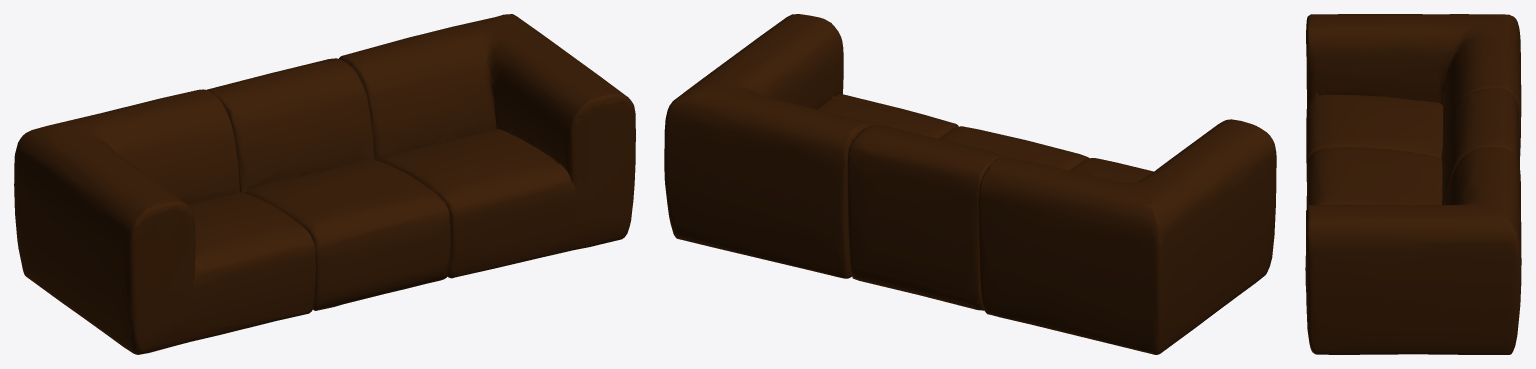
The model's file is stockholm-2025-3-seat-sofa-alhamn-dark-brown.glb.
The picture shows the model from 3 angles, left to right: view 1: azimuth 30°, elevation 25°; view 2: azimuth 150°, elevation 25°; view 3: azimuth 270°, elevation 25°; orthographic projection. The views are drawn at different scales.
Visible parts, largest first — view 1: 39574295_3_seat_sofa:3, 39574295_3_seat_sofa:2; view 2: 39574295_3_seat_sofa:3, 39574295_3_seat_sofa:2; view 3: 39574295_3_seat_sofa:3, 39574295_3_seat_sofa:2.
Part boxes in pixels (x1,y1,x2,y2): 39574295_3_seat_sofa:3: (14,14,635,354); 39574295_3_seat_sofa:2: (207,58,450,310); 39574295_3_seat_sofa:3: (664,14,1276,354); 39574295_3_seat_sofa:2: (847,125,1089,310); 39574295_3_seat_sofa:3: (1305,14,1521,354); 39574295_3_seat_sofa:2: (1306,88,1520,207).
Bounding box in the file's own units: 2.44 × 0.7109 × 1.01.
Materials: 2 (2 with a texture image).
